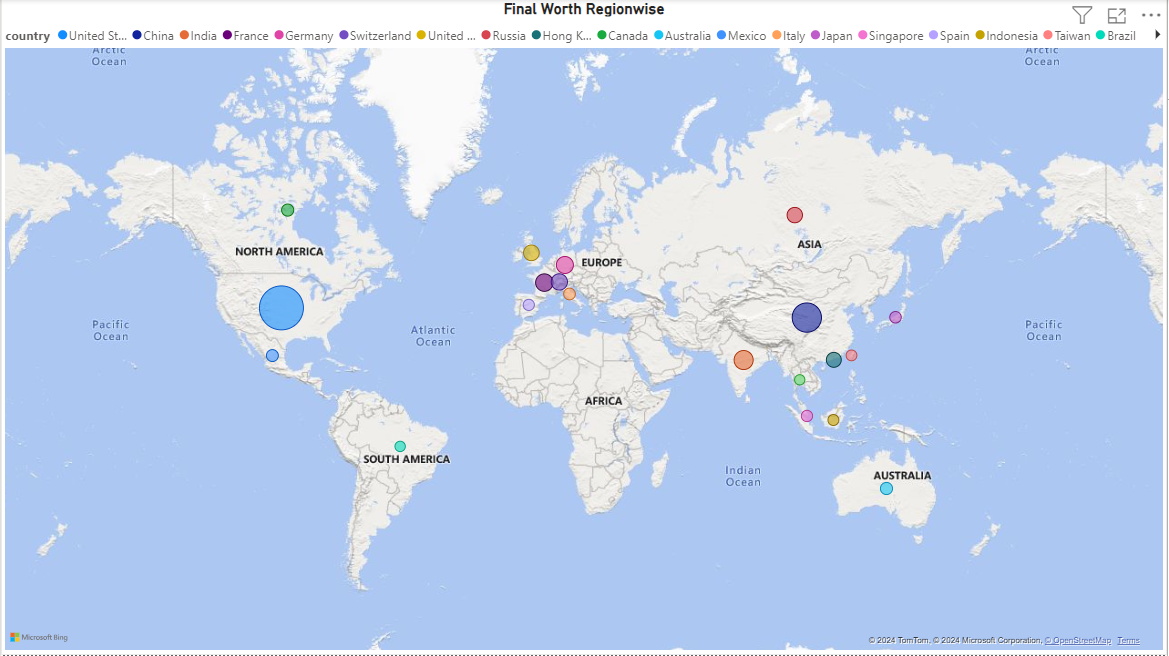

What the dashboard file says about the page in this screenshot:
{"tool":"powerbi","page":{"name":"Regions ","canvas":[1280,720],"ordinal":1},"visuals":[{"type":"map","title":"Final Worth Regionwise","fields":{"Size":["Sum(Billionaires Statistics Dataset.finalWorth)"],"Category":["Billionaires Statistics Dataset.country"],"Series":["Billionaires Statistics Dataset.country"]},"box":[0,0,1280.3,720.4],"z":0}]}

Visuals, with their boxes in screenshot pixels (x1, y1, x2, y2), scaled from the page's 1280x720 canvas onto the 1169x656 screenshot:
"Final Worth Regionwise" map: select_region(0, 0, 1168, 655)
